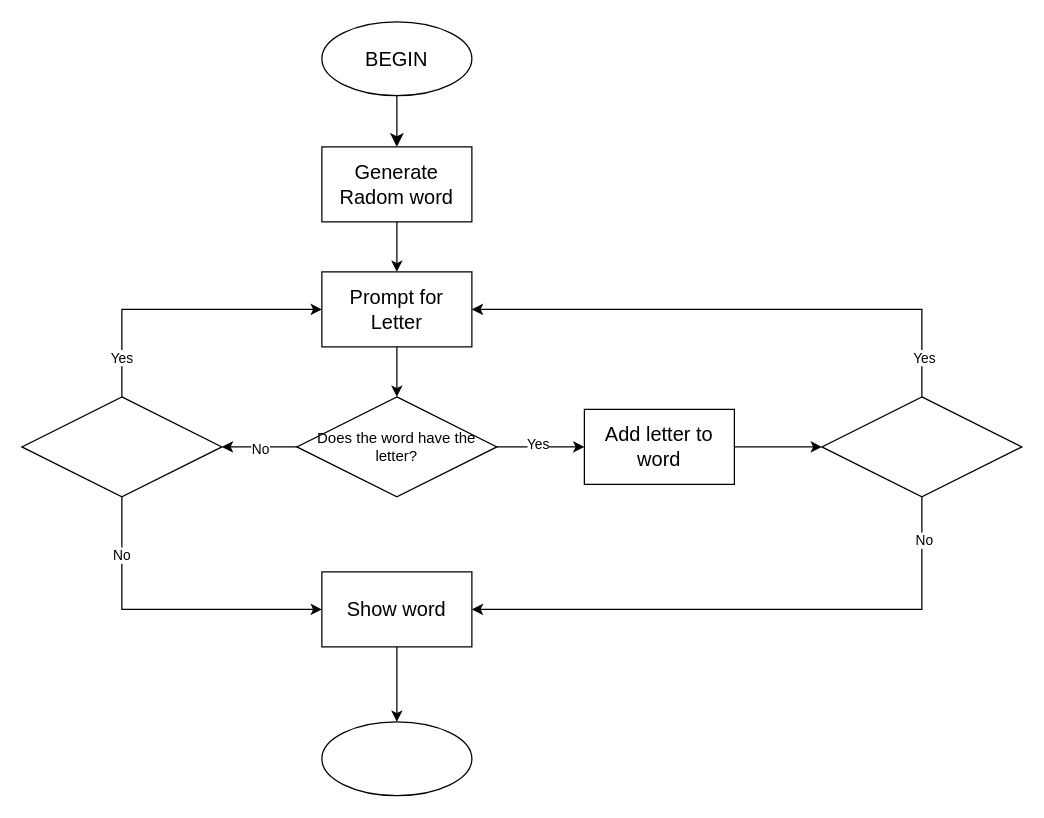
The diagram is 1044 pixels wide and 818 high, and some of its shapes have lost their labels. The shapes that lost their labels are listed below. From the top down, each one's box as (x1, y1, x2, y2) in pixels, then its label:
(21, 396, 222, 497): Does user have more guesses?
(821, 396, 1022, 497): Are there more letters?
(321, 721, 472, 796): END
